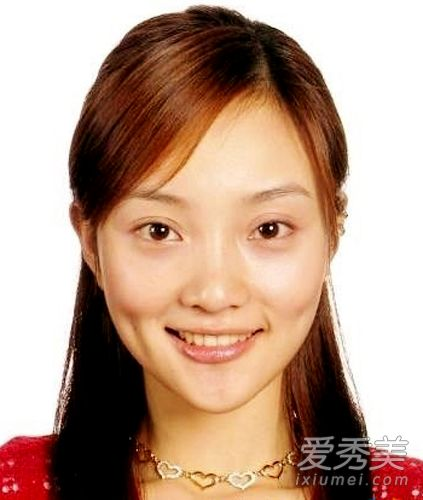unmask: (110, 147, 324, 395)
